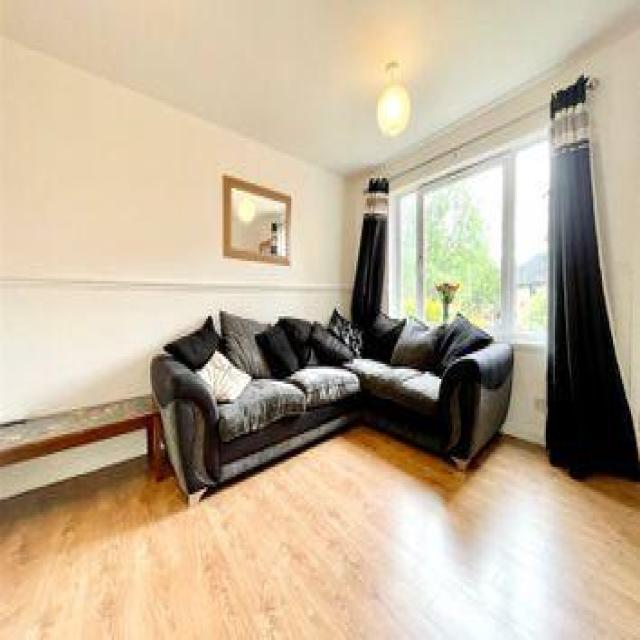Wall: (0, 425, 640, 639), (1, 36, 351, 423), (0, 1, 640, 173), (550, 26, 640, 452), (215, 126, 364, 285), (0, 431, 146, 499), (502, 344, 546, 443), (366, 106, 434, 162)
